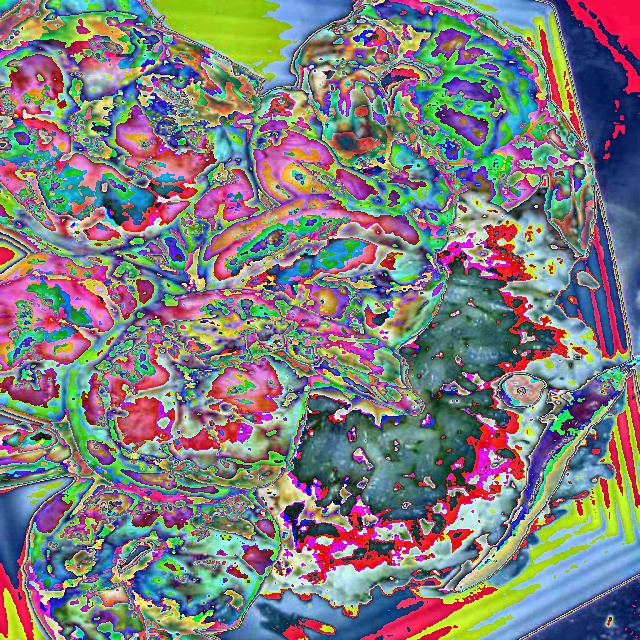background: (0, 0, 640, 639), (83, 37, 336, 638)
